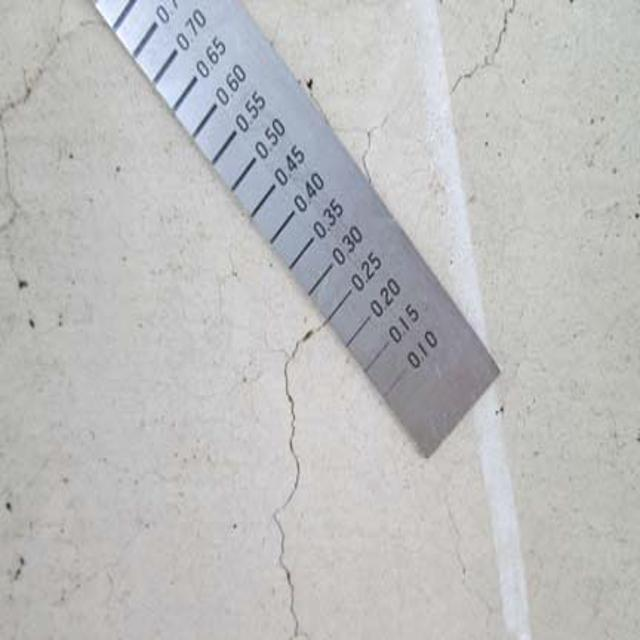crack: (352, 0, 567, 191), (257, 280, 332, 634)
